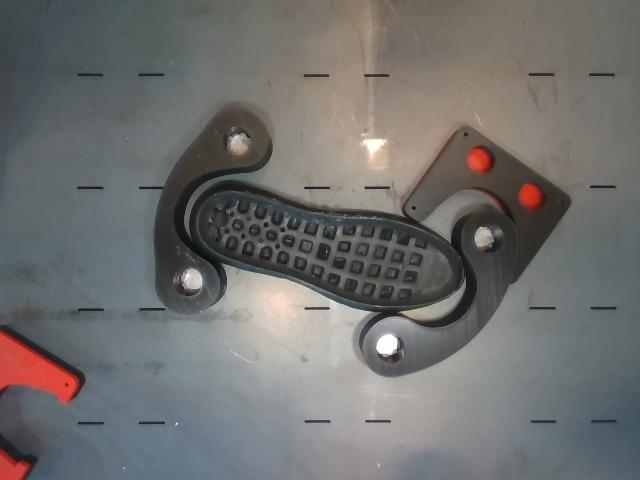shoes: (199, 192, 462, 306)
